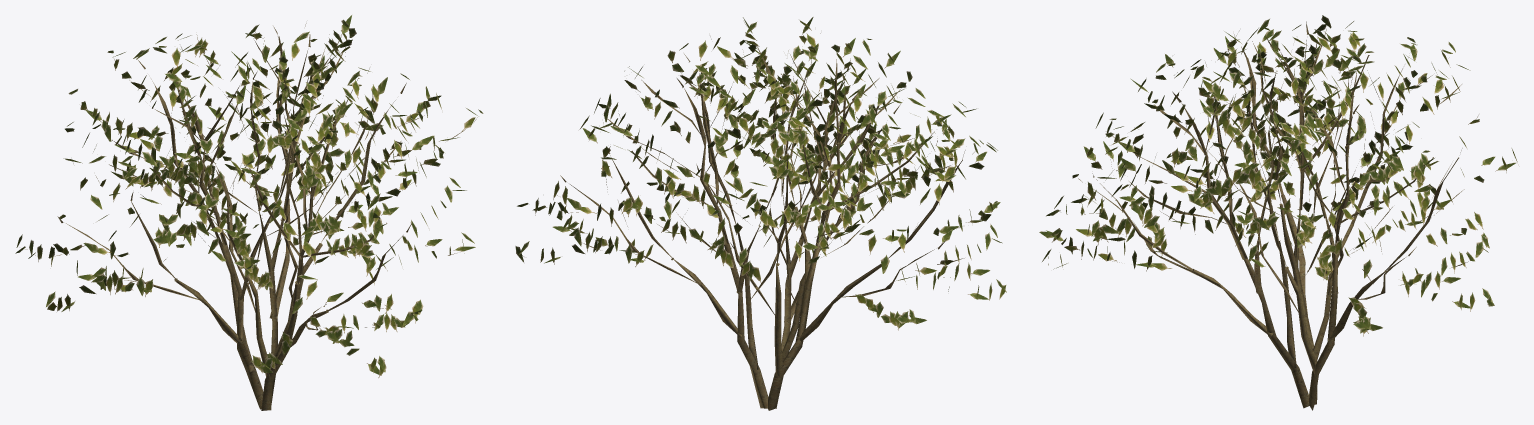
File: euonymus_shrub_b_low.glb
The picture shows the model from 3 angles, left to right: view 1: azimuth 30°, elevation 25°; view 2: azimuth 150°, elevation 25°; view 3: azimuth 270°, elevation 25°; orthographic projection. The views are drawn at different scales.
Parts seen in each view (by area): view 1: EuonymusShrub_B_LowPoly; view 2: EuonymusShrub_B_LowPoly; view 3: EuonymusShrub_B_LowPoly.
Part boxes in pixels (x1=…): EuonymusShrub_B_LowPoly: x1=15, y1=15, x2=483, y2=410; EuonymusShrub_B_LowPoly: x1=515, y1=17, x2=1006, y2=410; EuonymusShrub_B_LowPoly: x1=1039, y1=15, x2=1517, y2=410.
Size of the model in its own units: 1.91 by 1.56 by 1.83.
Materials: 3 (3 with a texture image).
